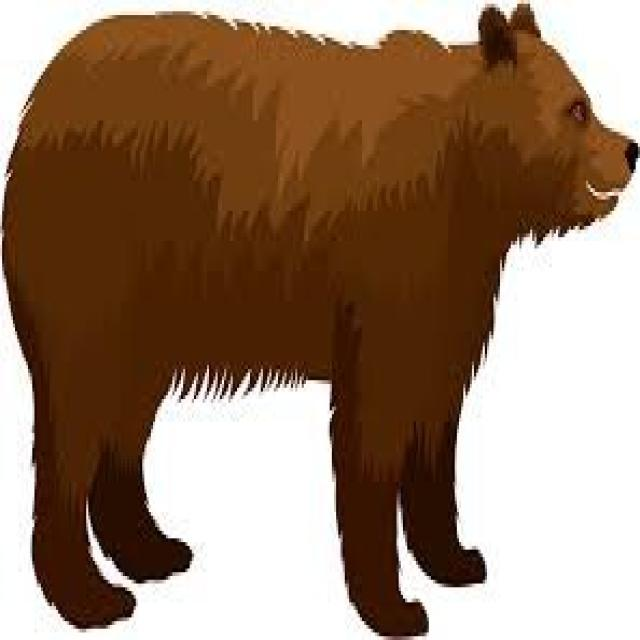bear: (0, 5, 633, 640)
